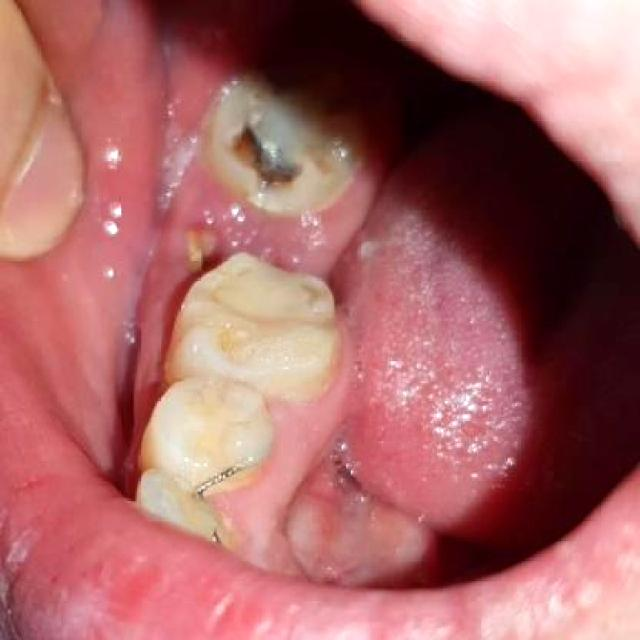Plaque: (185, 162, 326, 268), (229, 80, 306, 193)
